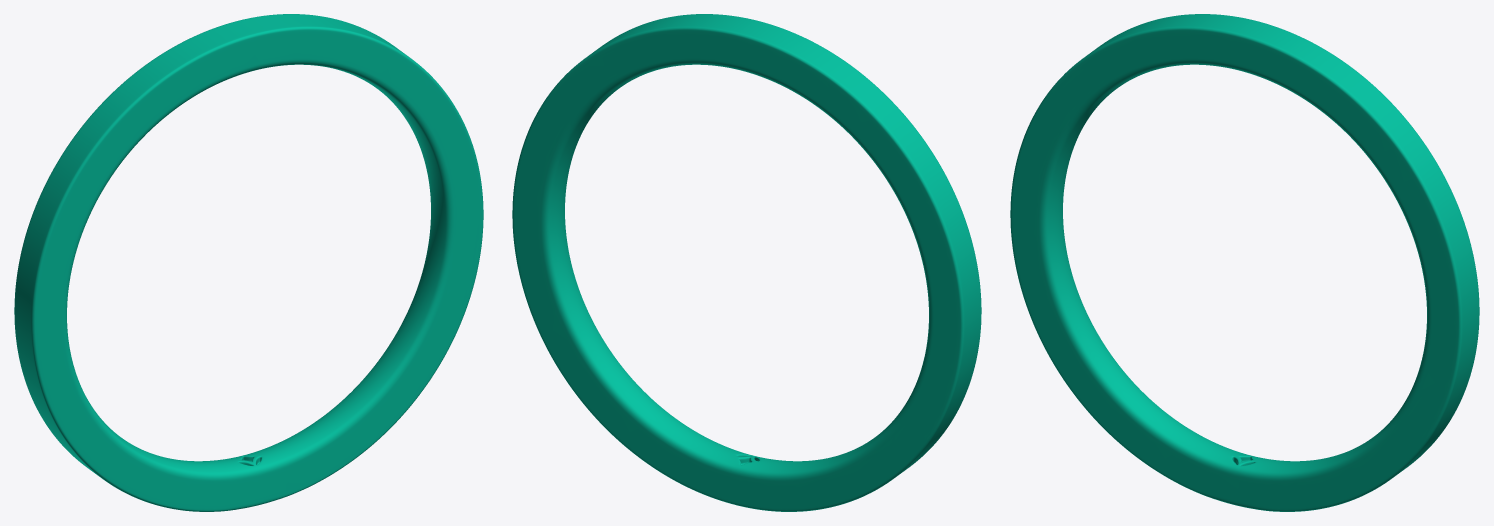
Rendered from BE22215_RENDER.glb.
3 renders of one model, left to right at view 1: azimuth 30°, elevation 25°; view 2: azimuth 150°, elevation 25°; view 3: azimuth 330°, elevation 25°, orthographic.
Visible parts, largest first — view 1: Metal03; view 2: Metal03; view 3: Metal03.
Boxes of the visible parts, box(x1,y1,x2,y2) form: Metal03: box(14, 14, 483, 511); Metal03: box(512, 14, 981, 511); Metal03: box(1010, 14, 1479, 511).
Size of the model in its own units: 19.91 by 19.91 by 1.5.
